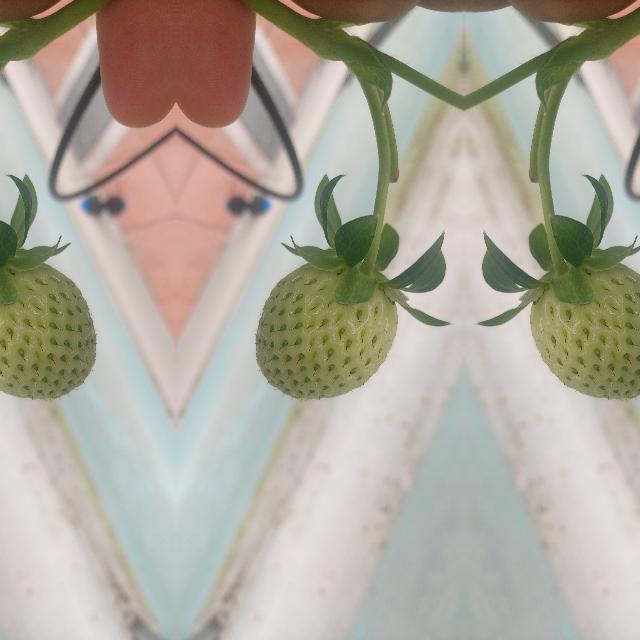Health_25: (254, 263, 396, 399), (530, 263, 640, 399), (0, 263, 96, 399)
